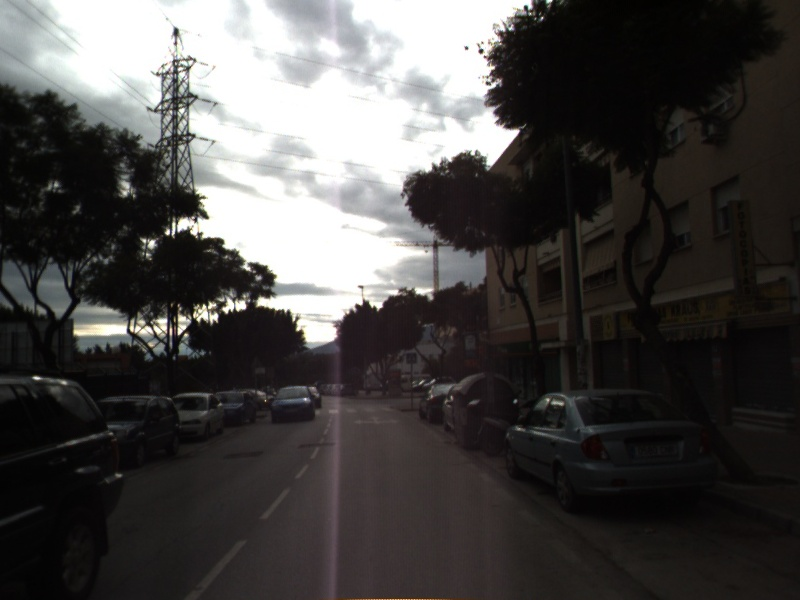STRAIGHT_LEFT_RIGHT: (352, 413, 401, 426)
